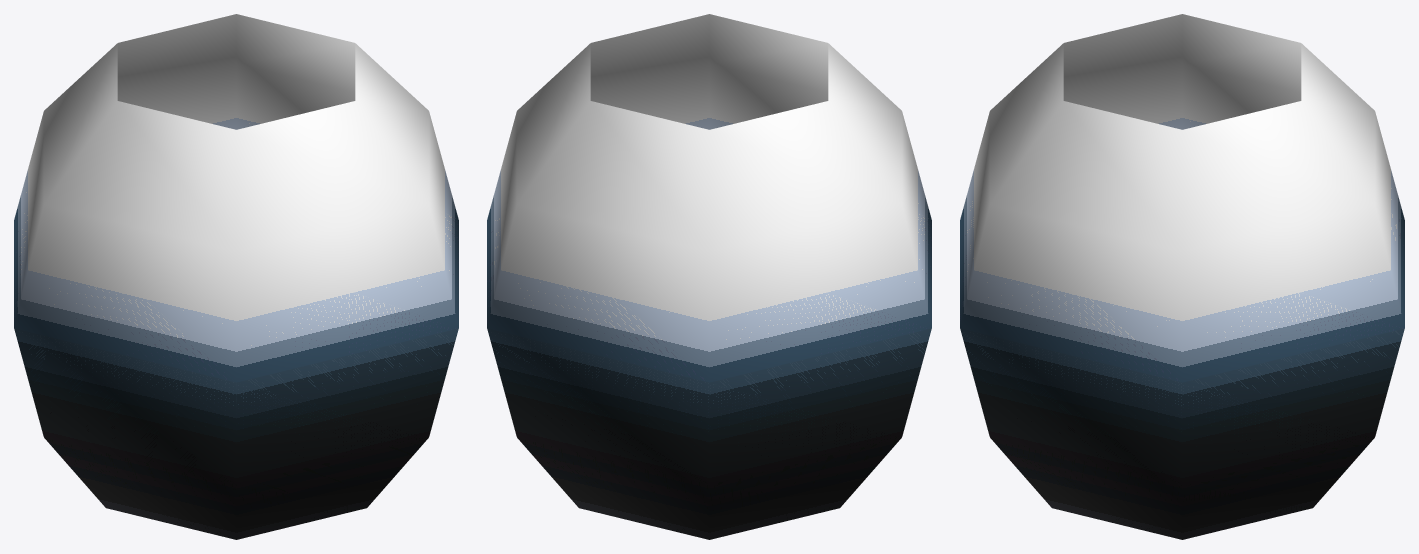
Rendered from ItemBoxAirShell.obj.
3 views of the same model, side by side, from view 1: azimuth 30°, elevation 25°; view 2: azimuth 150°, elevation 25°; view 3: azimuth 270°, elevation 25° (orthographic).
Bounding box in the file's own units: 20 × 17.38 × 17.32.
1 material, 1 textured.
